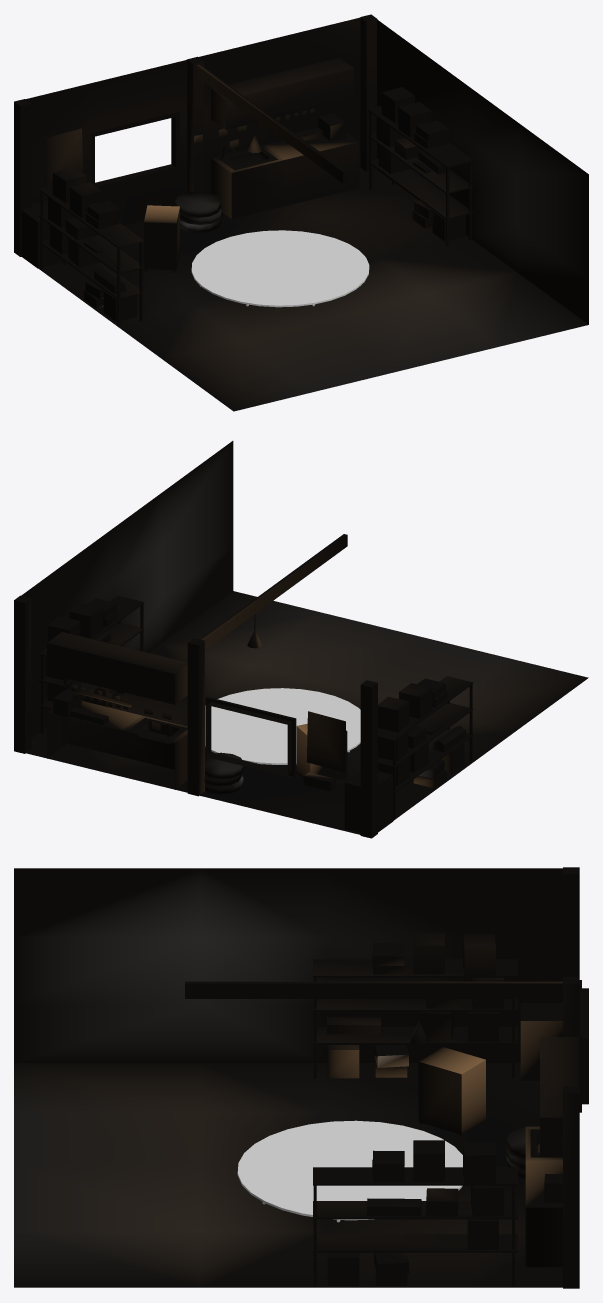
File: Room_01_old.fbx
3 views of the same model, one above another, from view 1: azimuth 30°, elevation 25°; view 2: azimuth 150°, elevation 25°; view 3: azimuth 270°, elevation 25° (orthographic). The views are drawn at different scales.
Parts seen in each view (by area): view 1: polySurface2, group9; view 2: polySurface2, group9; view 3: polySurface2, group9.
Part boxes in pixels (x1,y1,x2,y2): polySurface2: (14,14,588,411); group9: (191,230,369,307); polySurface2: (14,441,588,838); group9: (205,688,360,764); polySurface2: (14,867,588,1288); group9: (237,1120,462,1222).
Size of the model in its own units: 817 by 330 by 880.
